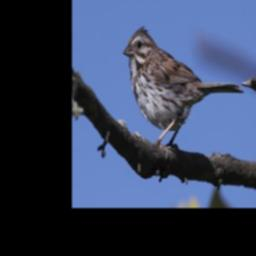Sparrow: (122, 23, 247, 158)
